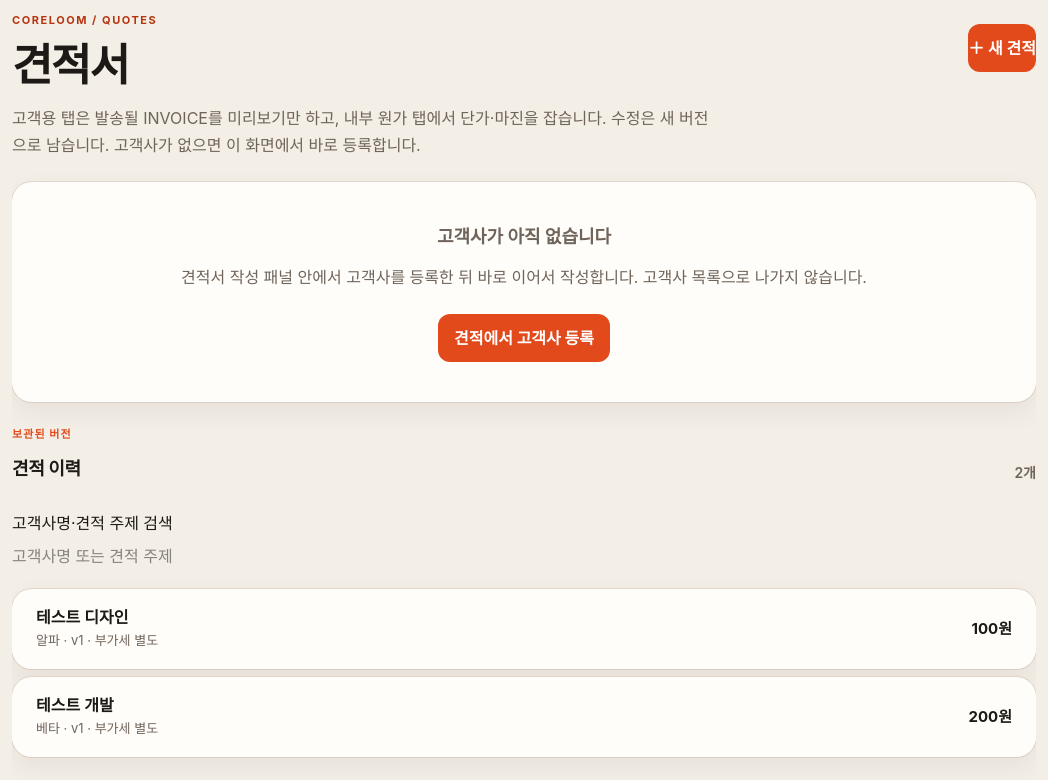
Test: sales UX › 견적 검색은 고객사와 주제 양쪽을 찾고 빈 결과를 표시한다
Type "알파" into the field labelled "고객사명·견적 주제 검색" at (524, 556), box top-left (12, 544), bottom-right (1036, 569)
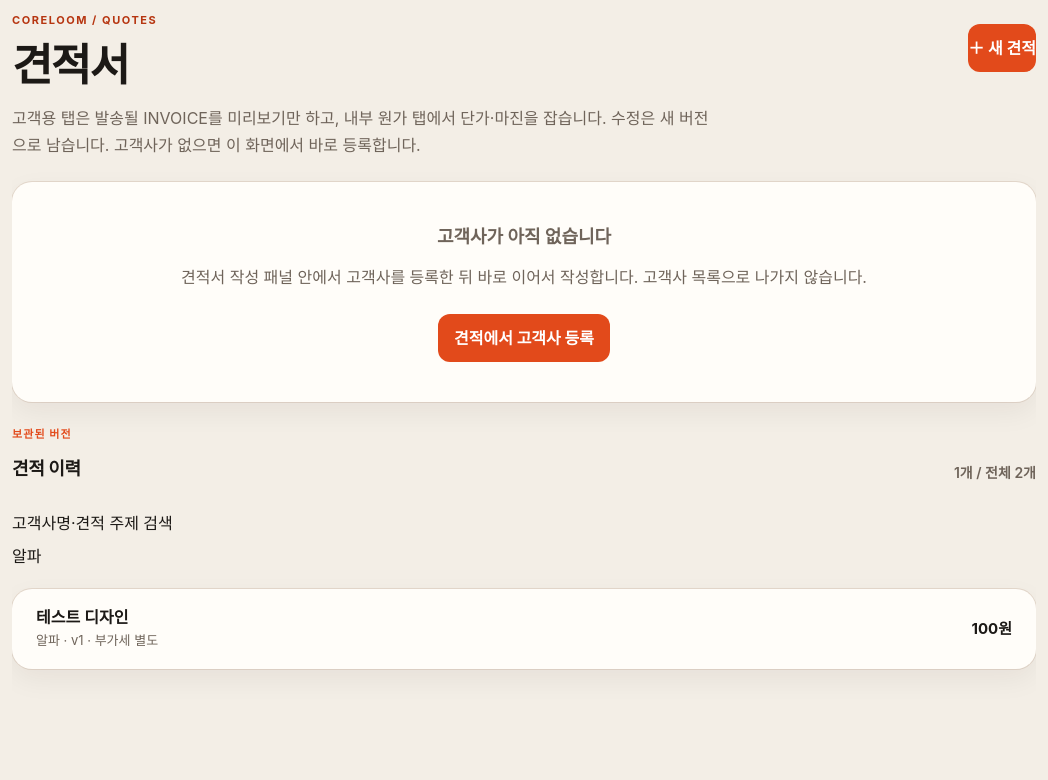
Expected: the heading "테스트 디자인" is shown, top-left (36, 607), bottom-right (128, 627)
Expected: the text "1개 / 전체 2개" is shown, top-left (954, 462), bottom-right (1036, 483)
Expected: the link "테스트 개발" is gone
Replace the text in the field labelled "고객사명·견적 주제 검색" with "디자인" at (524, 556), box top-left (12, 544), bottom-right (1036, 569)
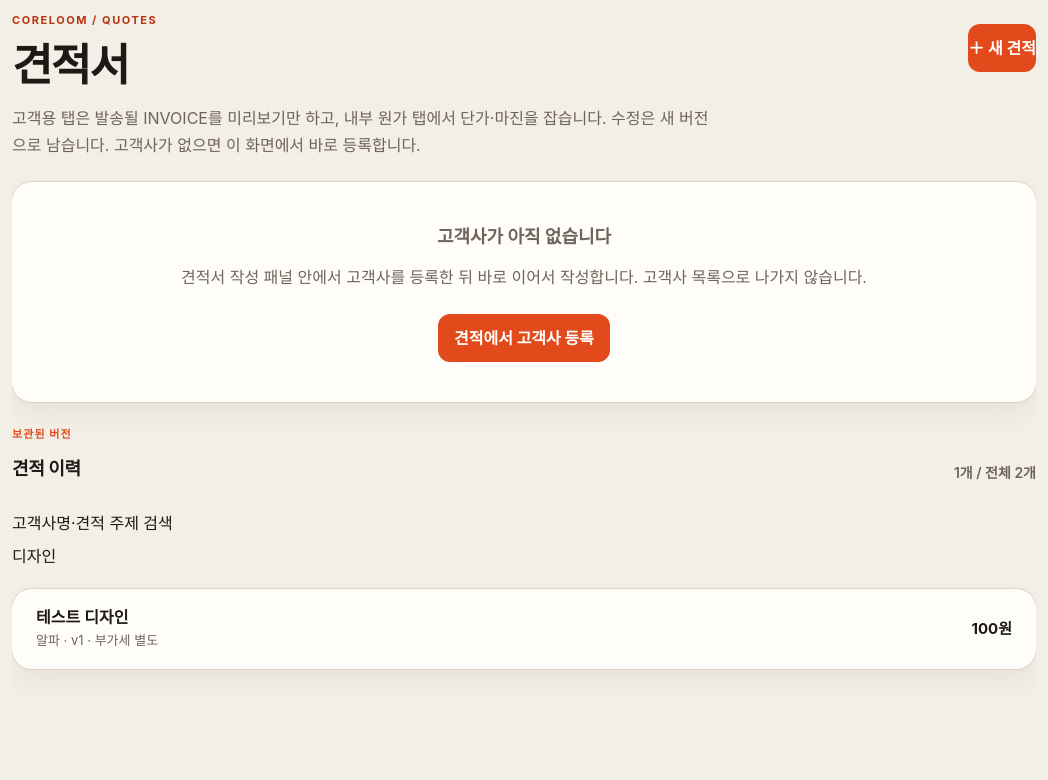
Expected: the heading "테스트 디자인" is shown, top-left (36, 607), bottom-right (128, 627)
Expected: the text "1개 / 전체 2개" is shown, top-left (954, 462), bottom-right (1036, 483)
Replace the text in the field labelled "고객사명·견적 주제 검색" with "없는 항목" at (524, 556), box top-left (12, 544), bottom-right (1036, 569)
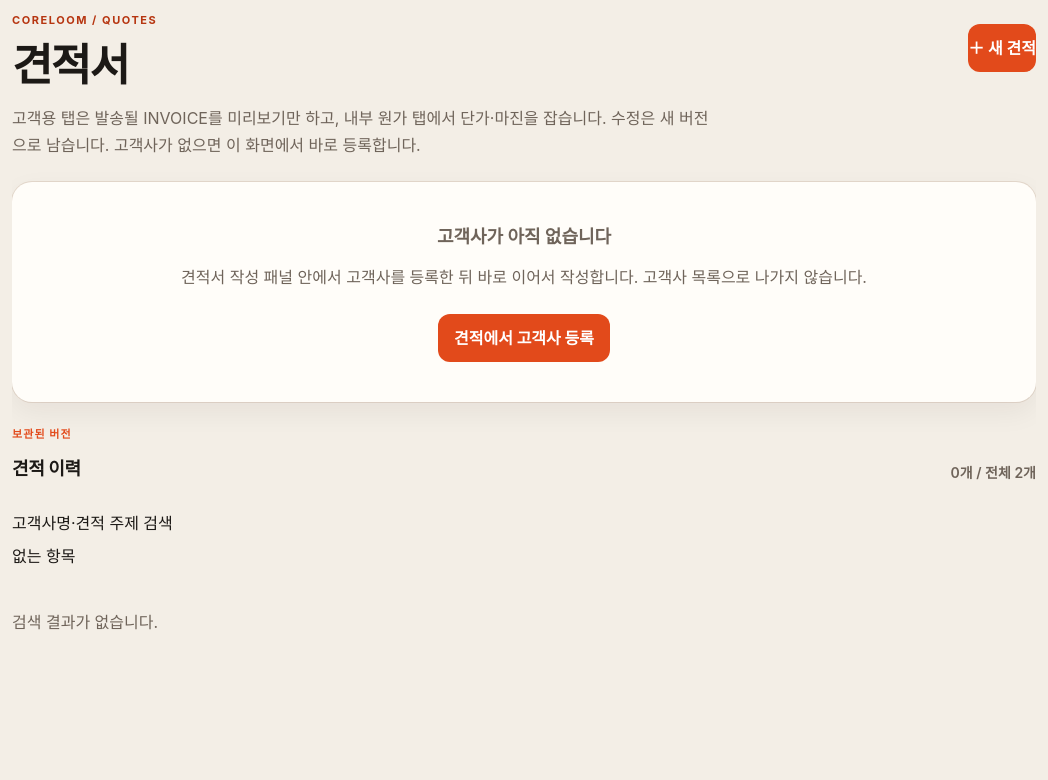
Expected: the text "검색 결과가 없습니다." is shown, top-left (12, 612), bottom-right (158, 632)
